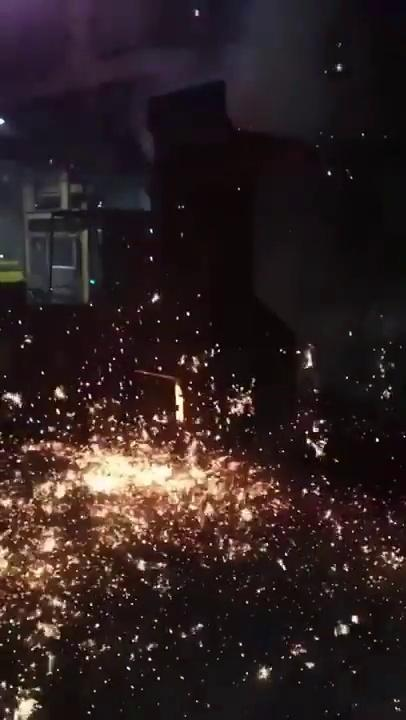fire: (10, 324, 324, 702)
